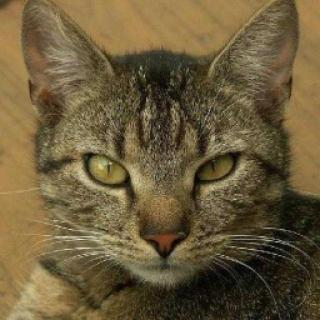cat: (22, 0, 300, 294)
nose: (136, 205, 192, 261)
